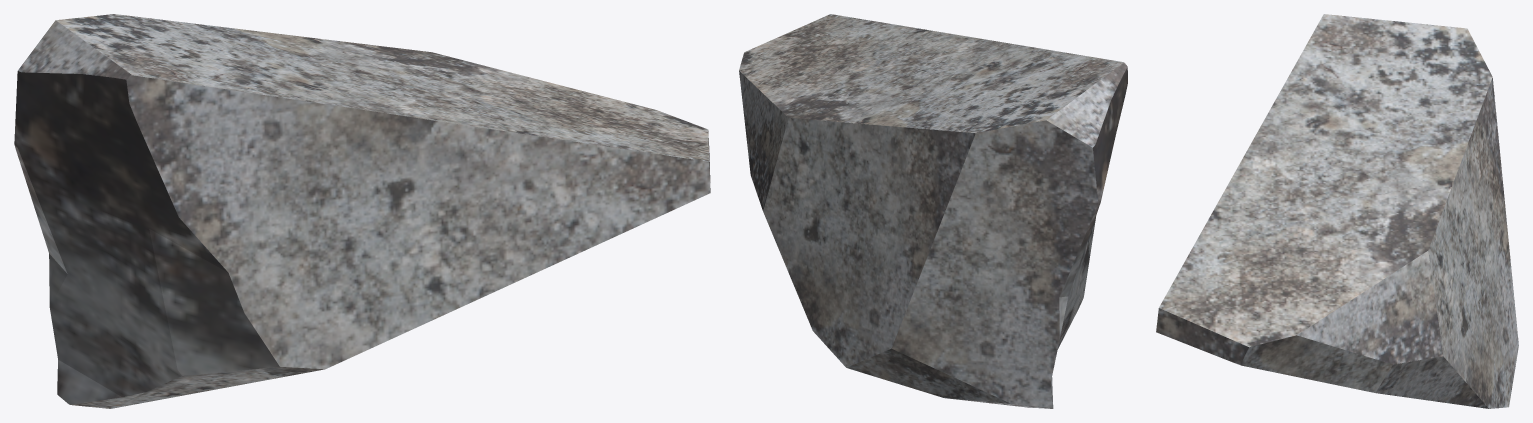
Rendered from Asteroid_Large_001_02_002_03_031.fbx.
3 views of the same model, side by side, from view 1: azimuth 30°, elevation 25°; view 2: azimuth 150°, elevation 25°; view 3: azimuth 270°, elevation 25° (orthographic). The views are drawn at different scales.
Visible parts, largest first — view 1: Asteroid_Large_001_02_002_03_031; view 2: Asteroid_Large_001_02_002_03_031; view 3: Asteroid_Large_001_02_002_03_031.
Part boxes in pixels (box(x1,y1,x2,y2)): Asteroid_Large_001_02_002_03_031: box(14, 14, 710, 408); Asteroid_Large_001_02_002_03_031: box(739, 14, 1127, 408); Asteroid_Large_001_02_002_03_031: box(1156, 14, 1518, 408).
Size of the model in its own units: 14.09 by 9.39 by 9.49.
